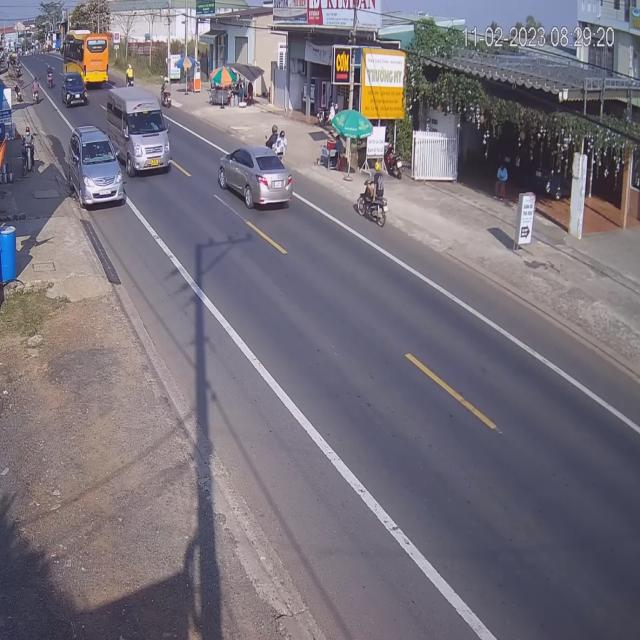bus: (105, 87, 172, 179), (61, 31, 109, 81)
car: (67, 128, 126, 211), (217, 148, 292, 212), (63, 71, 88, 110)
motorbike: (354, 180, 387, 228), (268, 120, 285, 155), (162, 80, 173, 111), (32, 77, 42, 105), (127, 62, 136, 88)
